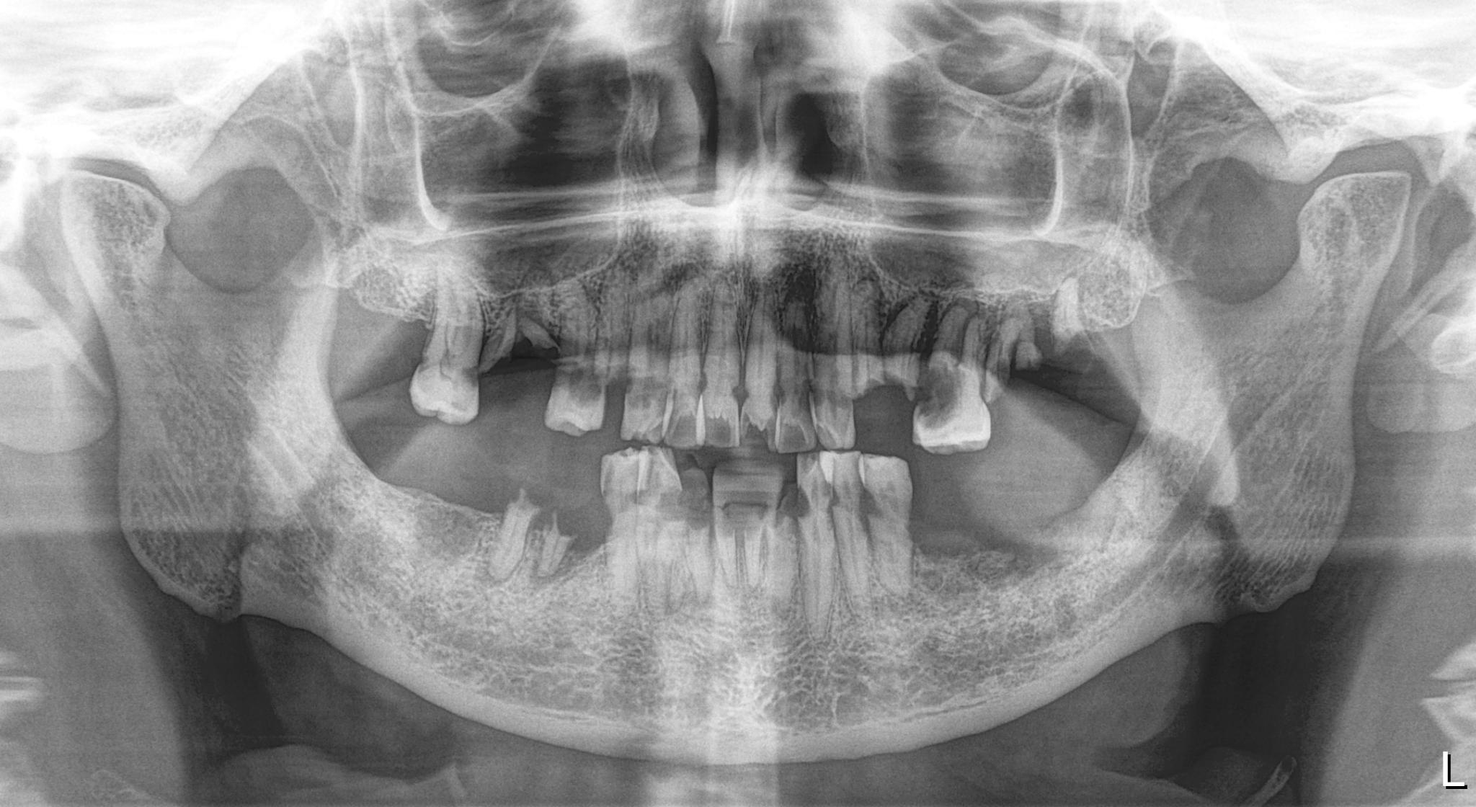Dental Caries: (924, 367, 962, 429), (564, 351, 602, 407), (701, 413, 740, 451), (667, 407, 703, 442), (631, 375, 664, 410)
Endodontically Treated Tooth: (708, 467, 785, 608)
Missing Tooth: (977, 467, 1036, 629), (357, 436, 413, 602), (917, 470, 966, 612), (427, 454, 474, 599), (1050, 477, 1093, 618), (1106, 283, 1151, 403), (339, 270, 380, 393), (382, 274, 420, 390)
Periapical Abnormality: (600, 456, 693, 623), (800, 459, 910, 600), (782, 258, 825, 407)
Retained Root: (477, 472, 533, 600), (1049, 279, 1102, 407), (1014, 295, 1054, 397), (477, 286, 514, 390), (546, 463, 573, 595), (517, 283, 551, 387), (984, 306, 1015, 410)
Tooth Fracture: (859, 344, 917, 426)
